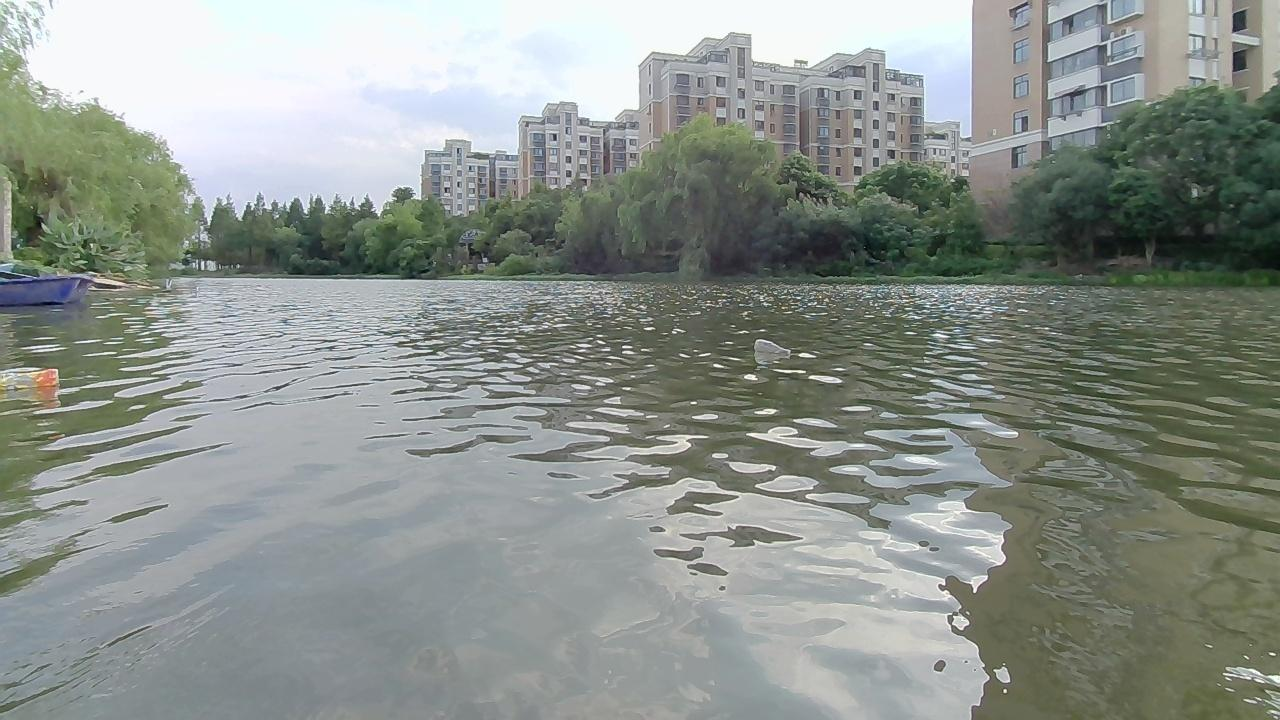bottle: (747, 334, 794, 356)
